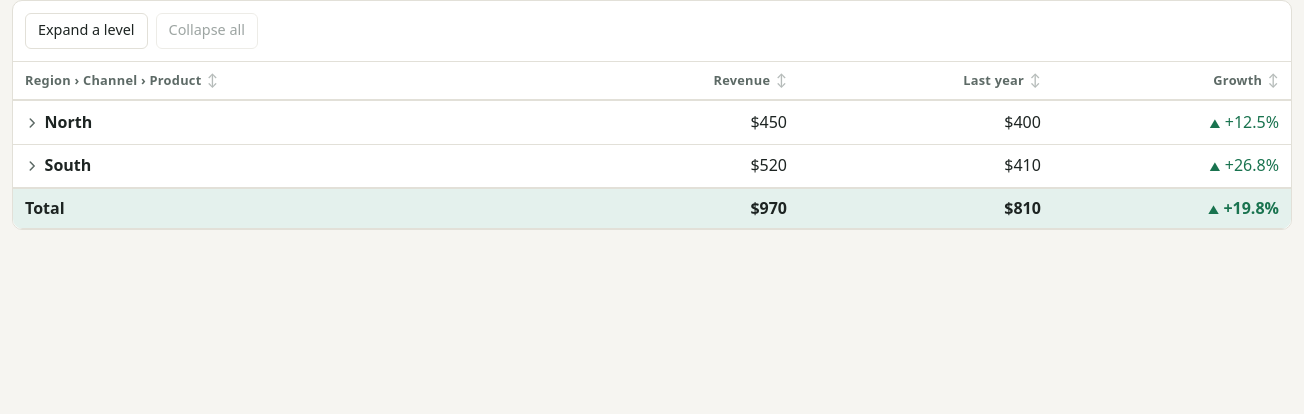
Test case: PivotTable › asks for a row's children, filtered by its ancestors, when the row is opened
The image size is (1304, 414).
Click the button "North" at (59, 123), box [21,109,96,136]
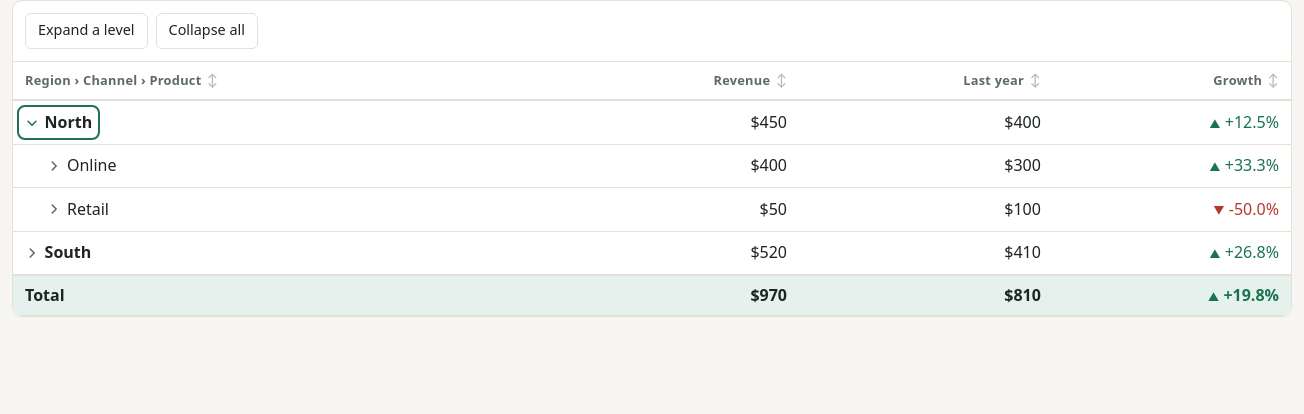
Click the button "Online" at (82, 166), box [43,153,121,179]
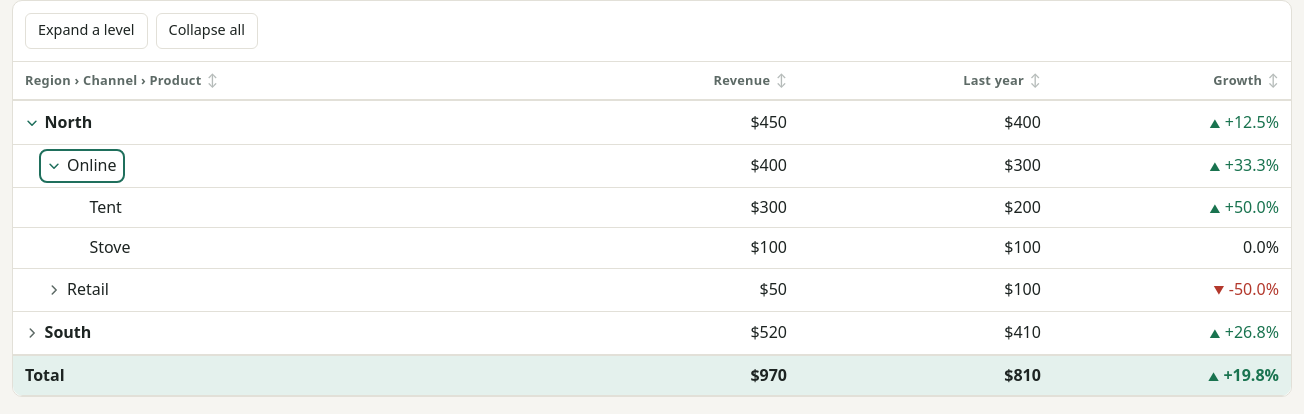
Result: the text "Stove" is shown at [89,236,130,258]
